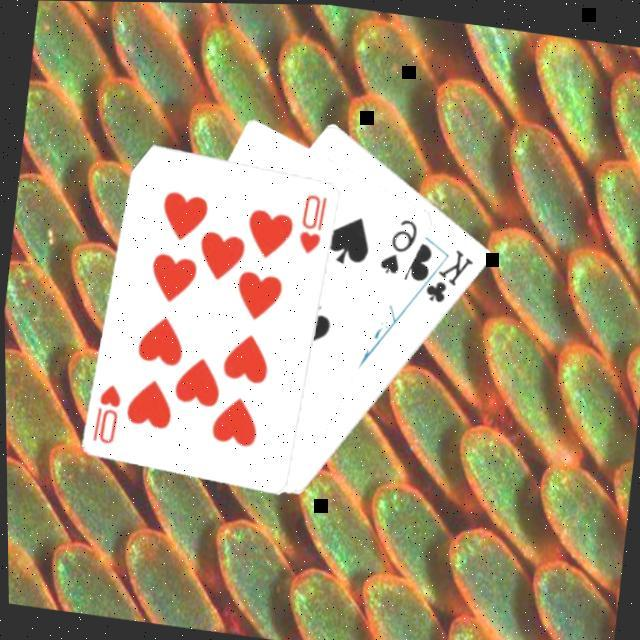10H: (87, 376, 127, 444), (293, 186, 332, 255)
6S: (374, 208, 424, 277)
KC: (408, 236, 478, 306)
